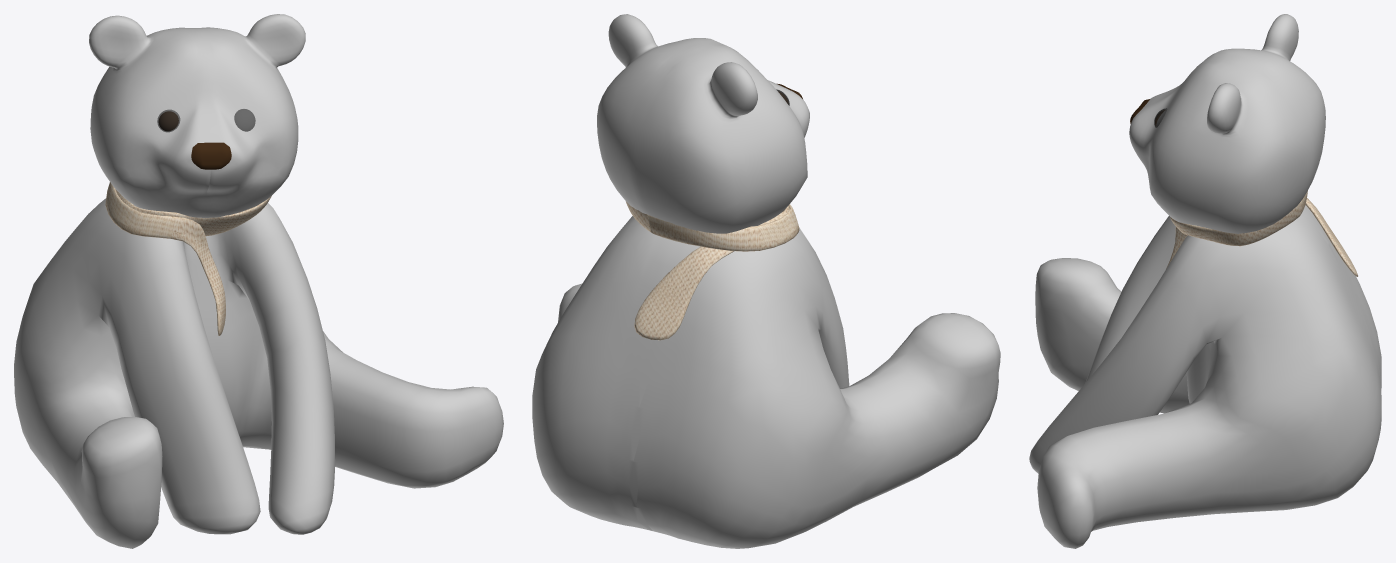
File: big_bear.fbx
3 renders of one model, left to right at view 1: azimuth 30°, elevation 25°; view 2: azimuth 150°, elevation 25°; view 3: azimuth 270°, elevation 25°, orthographic. The views are drawn at different scales.
Parts seen in each view (by area): view 1: Group_001, Head_001, Head_002, Scarf_001; view 2: Group_001, Head_001, Head_002, Scarf_001; view 3: Group_001, Head_002, Head_001, Scarf_001.
Boxes of the visible parts, bbox=[...] form: Group_001: bbox=[14, 198, 503, 548]; Head_001: bbox=[89, 15, 210, 217]; Head_002: bbox=[195, 14, 305, 217]; Scarf_001: bbox=[105, 182, 271, 335]; Group_001: bbox=[532, 216, 1000, 548]; Head_001: bbox=[632, 43, 809, 233]; Head_002: bbox=[597, 14, 777, 213]; Scarf_001: bbox=[626, 201, 799, 340]; Group_001: bbox=[1029, 205, 1381, 548]; Head_002: bbox=[1129, 58, 1312, 233]; Head_001: bbox=[1147, 14, 1325, 200]; Scarf_001: bbox=[1166, 190, 1357, 276].
Size of the model in its own units: 34.55 by 35.62 by 26.33.
